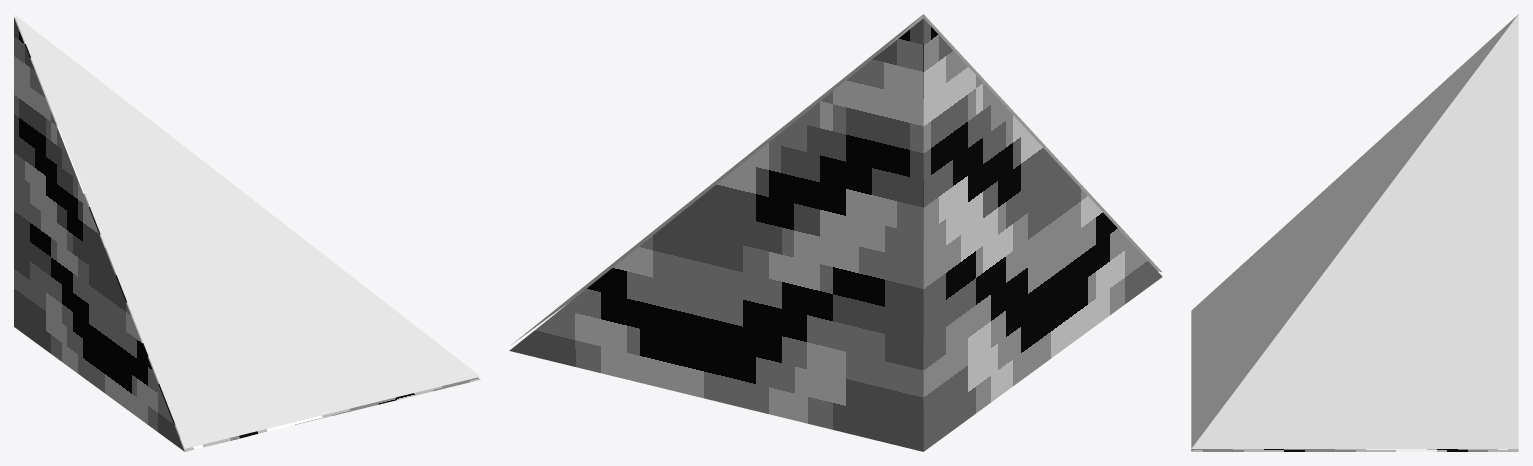
The model's file is slopeextcorner.fbx.
3 renders of one model, left to right at view 1: azimuth 30°, elevation 25°; view 2: azimuth 150°, elevation 25°; view 3: azimuth 270°, elevation 25°, orthographic. The views are drawn at different scales.
Parts seen in each view (by area): view 1: Cube; view 2: Cube; view 3: Cube.
Part boxes in pixels (x1,y1,x2,y2): Cube: (14, 14, 480, 451); Cube: (509, 14, 1162, 451); Cube: (1191, 14, 1518, 451).
Size of the model in its own units: 100 by 101 by 100.
